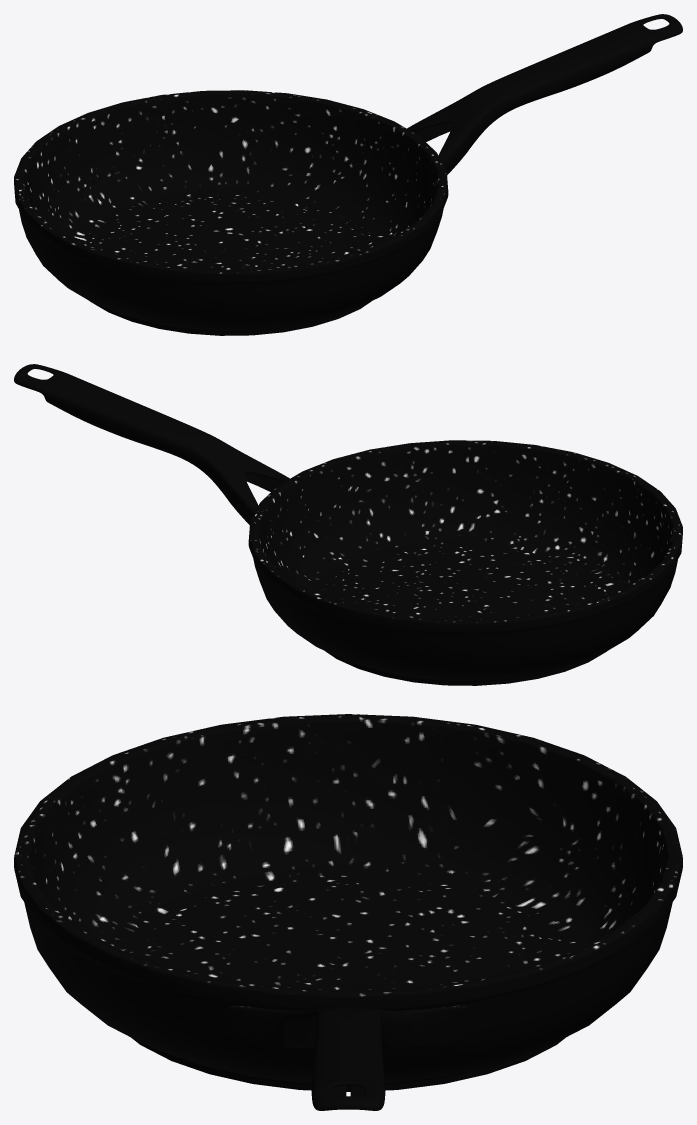
The model's file is pan.obj.
The picture shows the model from 3 angles, top to bottom: view 1: azimuth 30°, elevation 25°; view 2: azimuth 150°, elevation 25°; view 3: azimuth 270°, elevation 25°; orthographic projection. The views are drawn at different scales.
Visible parts, largest first — view 1: bake; view 2: bake; view 3: bake.
Part boxes in pixels (x1=…): bake: x1=14, y1=14, x2=682, y2=335; bake: x1=14, y1=364, x2=682, y2=685; bake: x1=14, y1=714, x2=682, y2=1110.
Bounding box in the file's own units: 1.44 × 0.3083 × 0.8566.
Materials: 1 (1 with a texture image).
